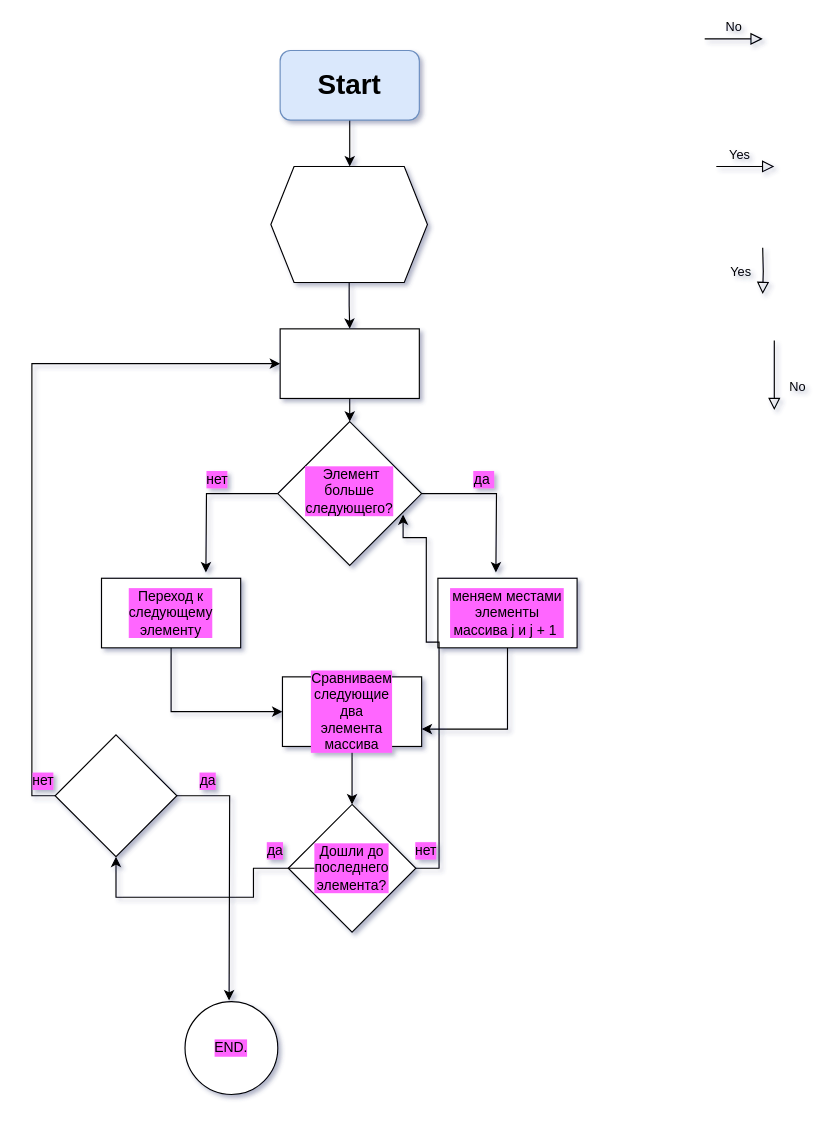
Some shapes in this 832 by 1122 pixel diagram are drawn without their labels. The shapes that lost their labels are listed below. From the top down, each one's centre as x and y in pixels, then its label:
At point 348,223: "Объявление массива, его параметры (размер, значения)".
At point 349,363: "Переход к нулевому(первому) элементу массива (array[0])".
At point 115,795: "Массив отсортирован полностью?".
